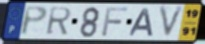8: (79, 5, 101, 38)
A: (128, 8, 154, 38)
F: (101, 6, 130, 37)
P: (20, 5, 50, 37)
R: (45, 6, 74, 36)
V: (157, 5, 186, 40)
